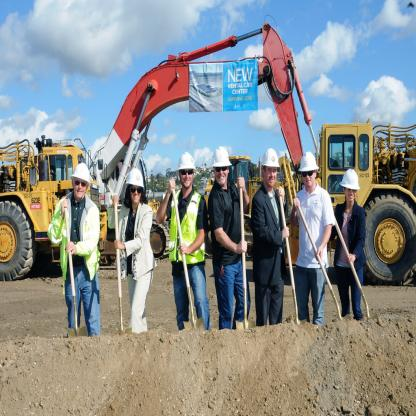person: (46, 156, 106, 336), (158, 151, 208, 335), (206, 132, 251, 334), (107, 148, 154, 335), (329, 146, 370, 328), (250, 134, 288, 324), (292, 140, 330, 325)
